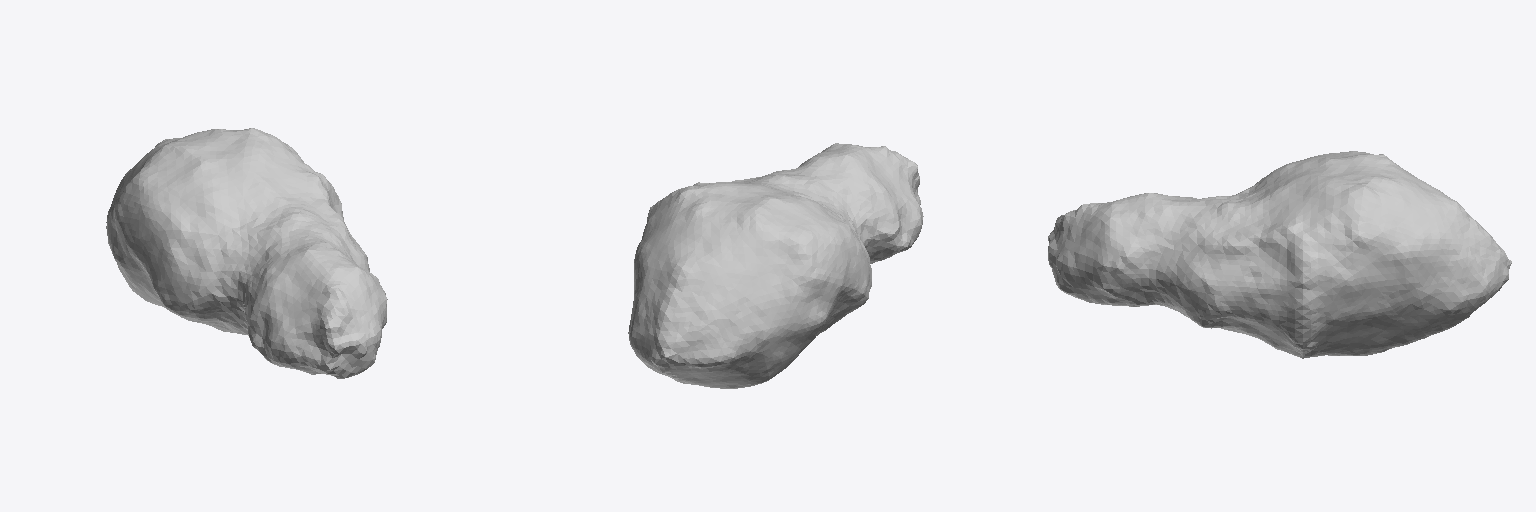
Rendered from Toutatis.obj.
The picture shows the model from 3 angles: view 1: azimuth 30°, elevation 25°; view 2: azimuth 150°, elevation 25°; view 3: azimuth 270°, elevation 25°; orthographic projection.
Visible parts, largest first — view 1: toutatis; view 2: toutatis; view 3: toutatis.
Boxes of the visible parts, box(x1,y1,x2,y2) form: toutatis: box(106, 128, 387, 378); toutatis: box(628, 143, 923, 388); toutatis: box(1048, 151, 1511, 358).
Size of the model in its own units: 2.29 by 1.92 by 4.6.